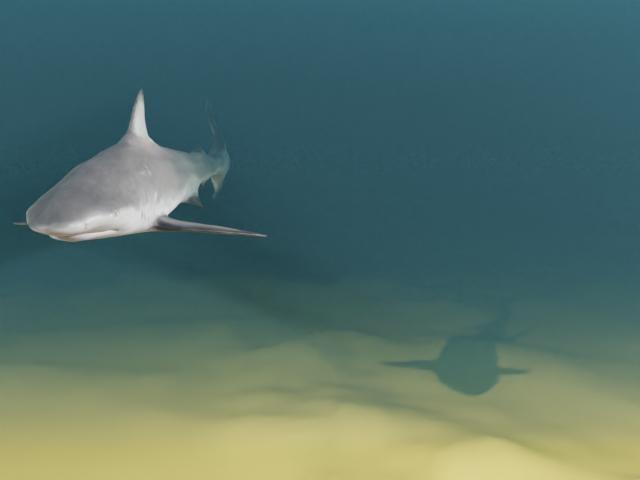Carribean Shark.001: (12, 89, 267, 241)
